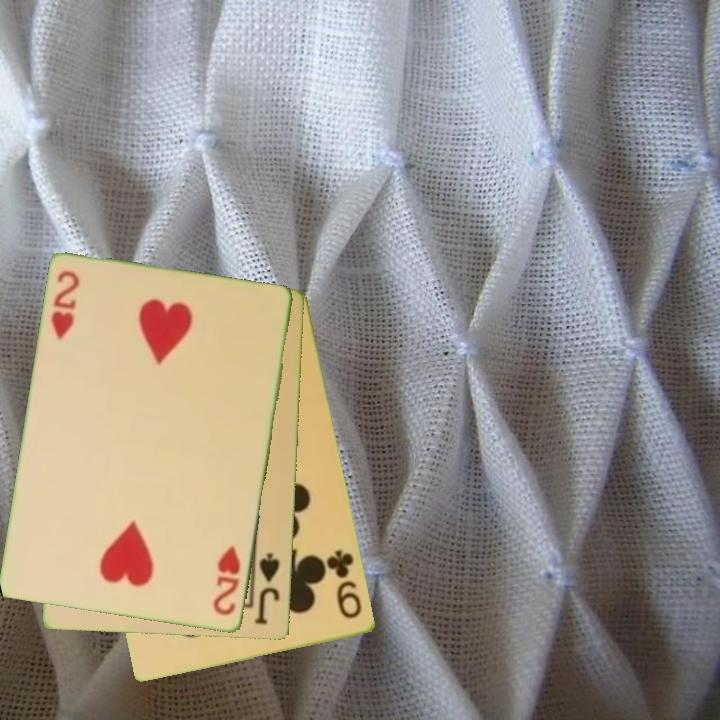2h: (209, 542, 244, 619), (48, 267, 83, 342)
9c: (324, 546, 365, 622)
Js: (252, 550, 283, 628)
